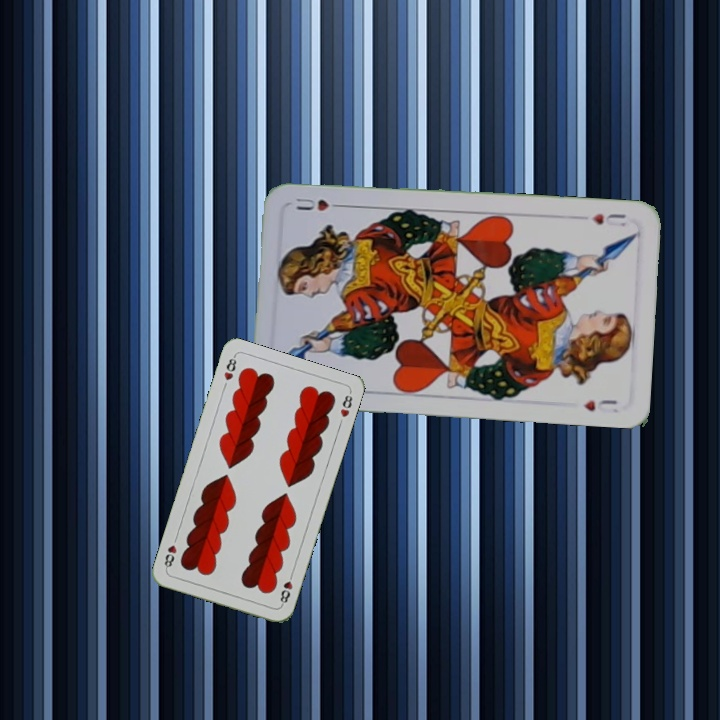H8: (276, 568, 296, 608), (220, 352, 239, 383)
HU: (588, 209, 629, 229)
